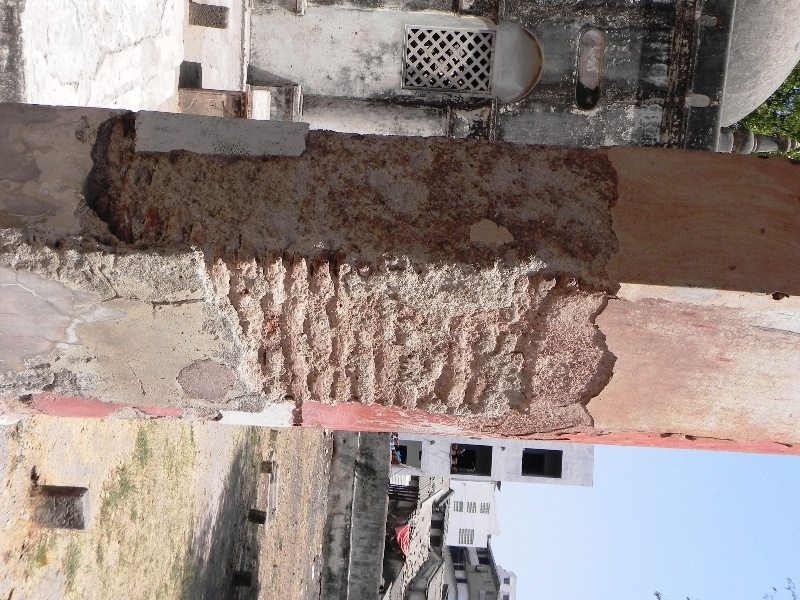Exposed Bricks: (210, 261, 513, 412)
Spalling: (74, 116, 642, 258), (515, 263, 626, 446)
